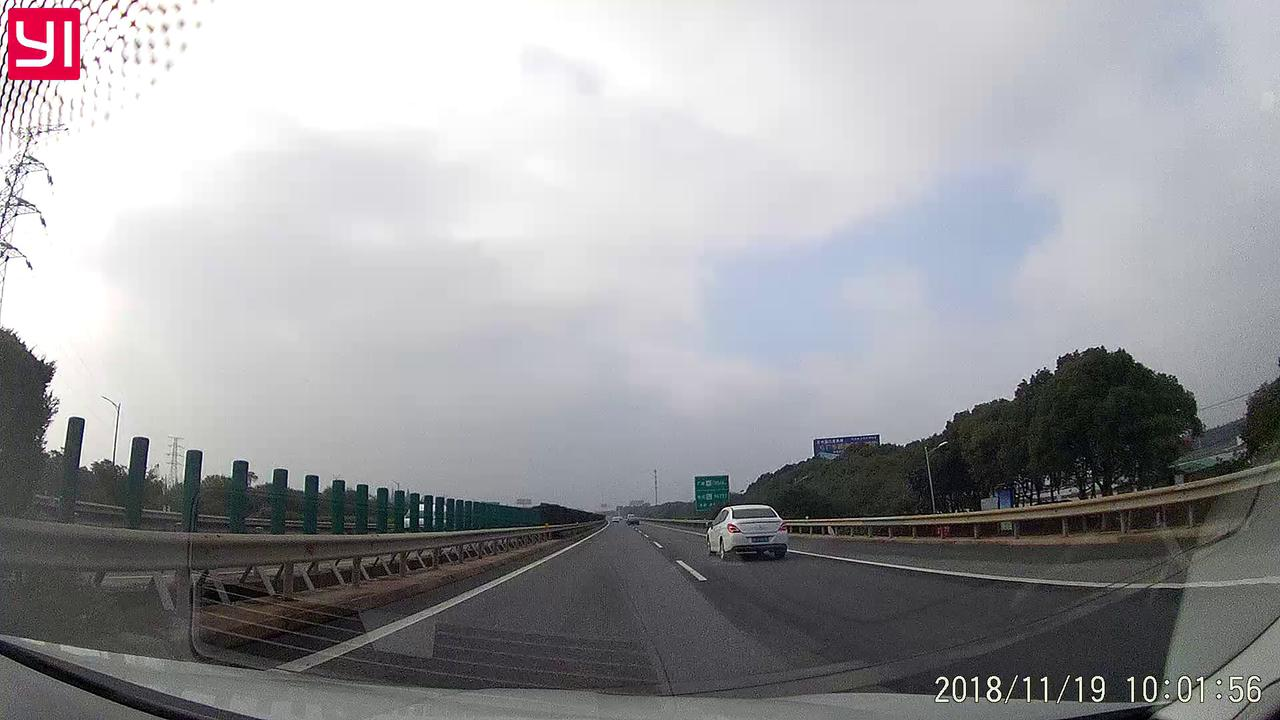car: (703, 503, 788, 561)
